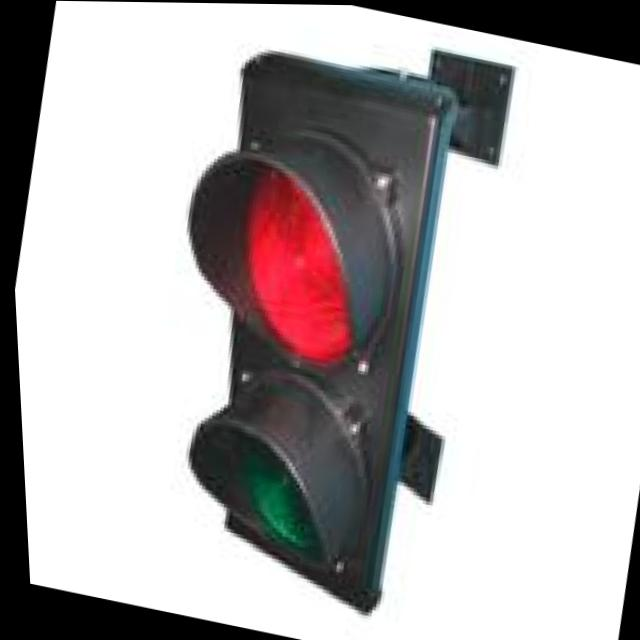red_light: (119, 122, 468, 388)
